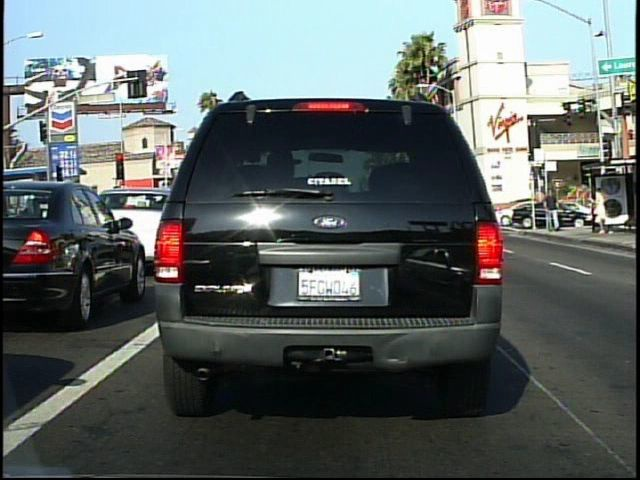person: (590, 183, 614, 236), (541, 184, 562, 234)
